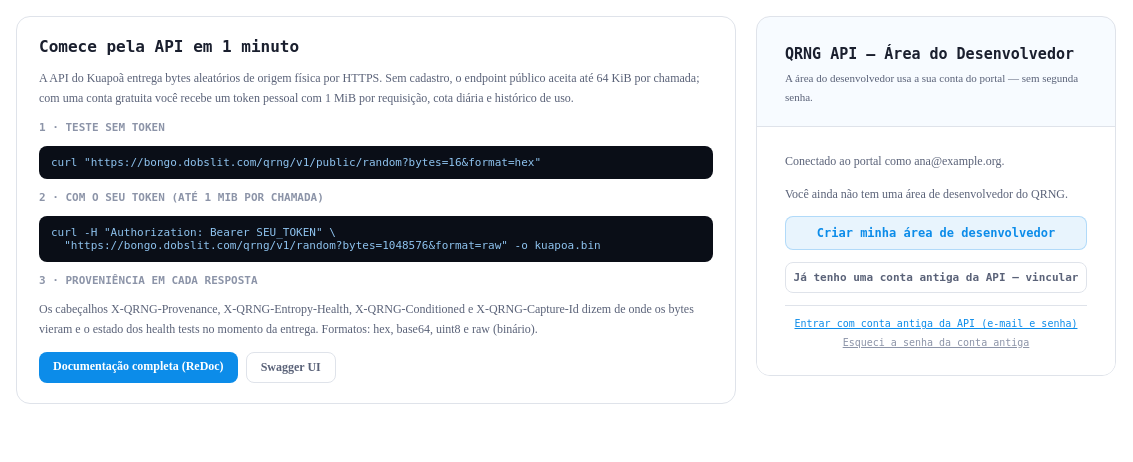
it: DeveloperPage — modo portal (padrão) › provisionar com 409 PORTAL_ALREADY_LINKED: texto explícito
This screenshot has width=1133, height=462.
Step 1. Click the button "Criar minha área de desenvolvedor" → {"x": 936, "y": 233}, box [785,216,1087,250]
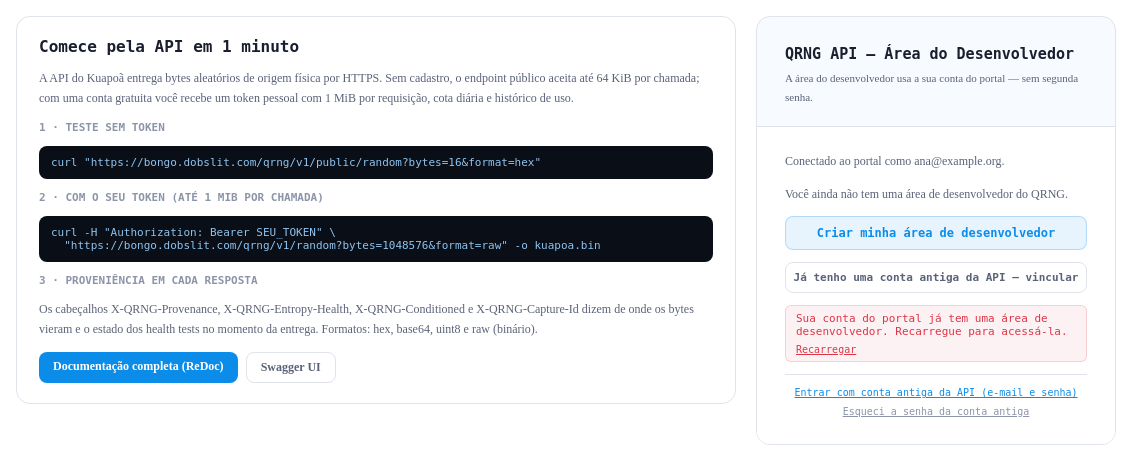
Now the text "já tem uma área de desenvolvedor" is shown, box [796,312,1068,338]
Now the button "Recarregar" is shown, box [796,344,1076,355]
